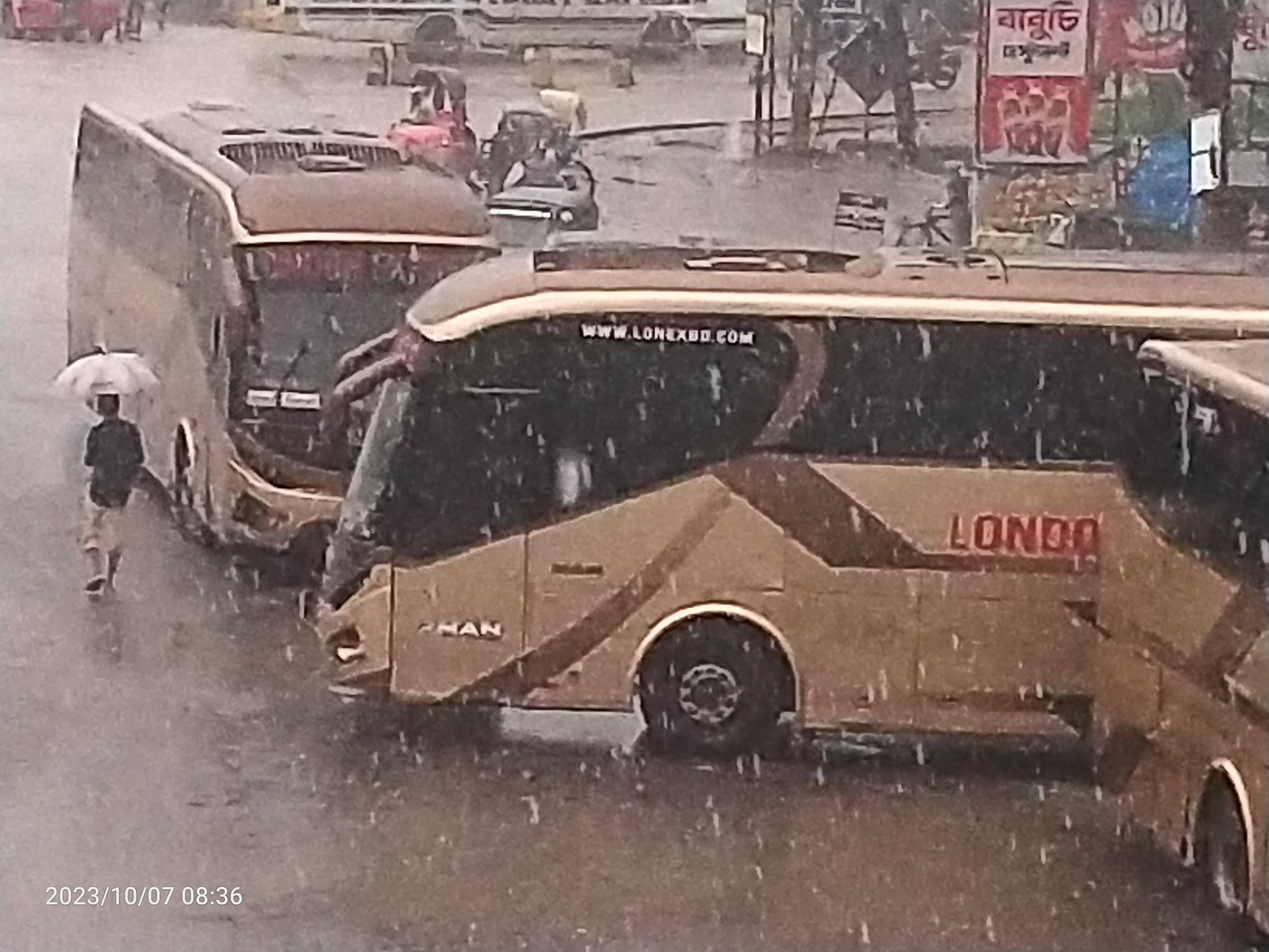Bus: (293, 210, 1269, 811), (32, 68, 514, 618), (1061, 293, 1269, 952), (243, 0, 808, 66)
